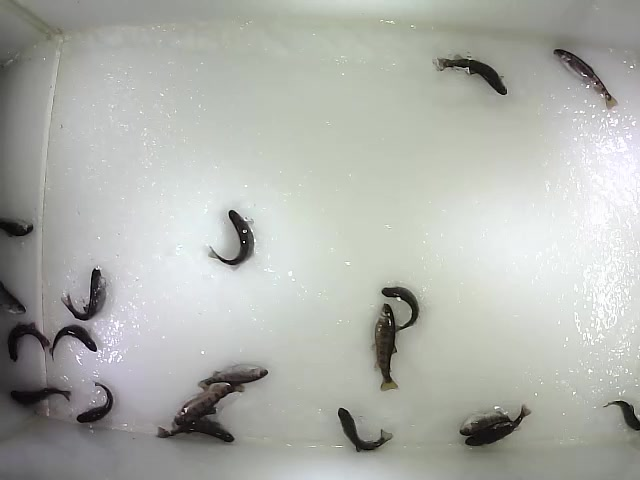fish: (552, 47, 621, 112), (431, 52, 509, 97), (174, 379, 245, 427), (206, 208, 256, 268), (464, 403, 532, 447), (369, 303, 402, 393), (336, 406, 396, 454), (58, 266, 109, 322), (198, 362, 269, 393), (156, 418, 236, 445), (380, 285, 422, 334), (48, 323, 99, 363), (7, 320, 52, 364), (76, 379, 114, 426), (459, 407, 515, 437), (7, 385, 73, 408)
